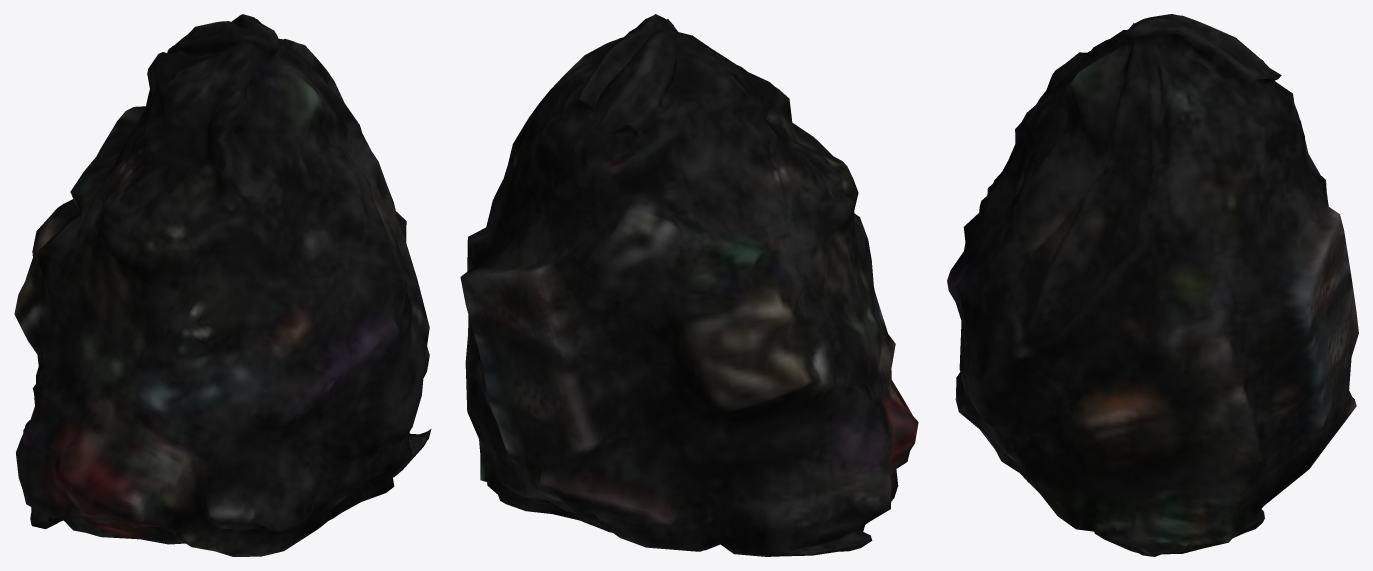
File: trashbag.glb
3 views of the same model, side by side, from view 1: azimuth 30°, elevation 25°; view 2: azimuth 150°, elevation 25°; view 3: azimuth 270°, elevation 25° (orthographic). The views are drawn at different scales.
Parts seen in each view (by area): view 1: trashbag; view 2: trashbag; view 3: trashbag.
Part boxes in pixels (left/top/right/bottom): trashbag: left=14, top=14, right=431, bottom=556; trashbag: left=460, top=14, right=918, bottom=556; trashbag: left=947, top=14, right=1358, bottom=556.
Bounding box in the file's own units: 0.5281 × 0.575 × 0.4629.
Materials: 1 (1 with a texture image).
